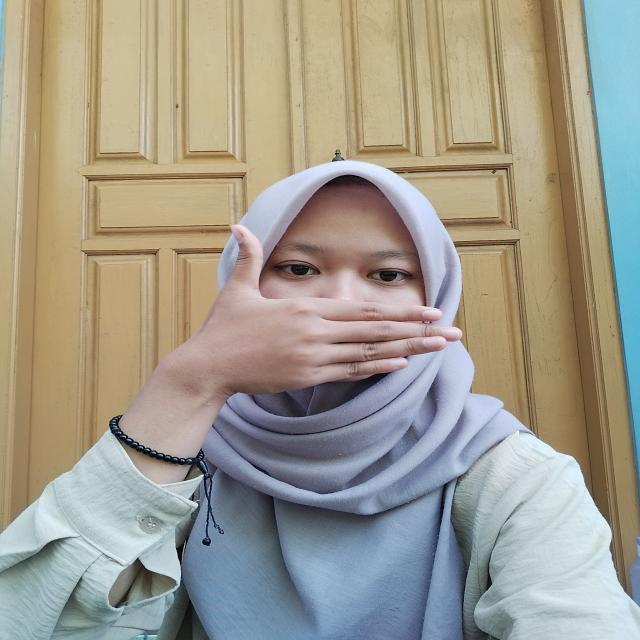buruk: (159, 225, 472, 412)
